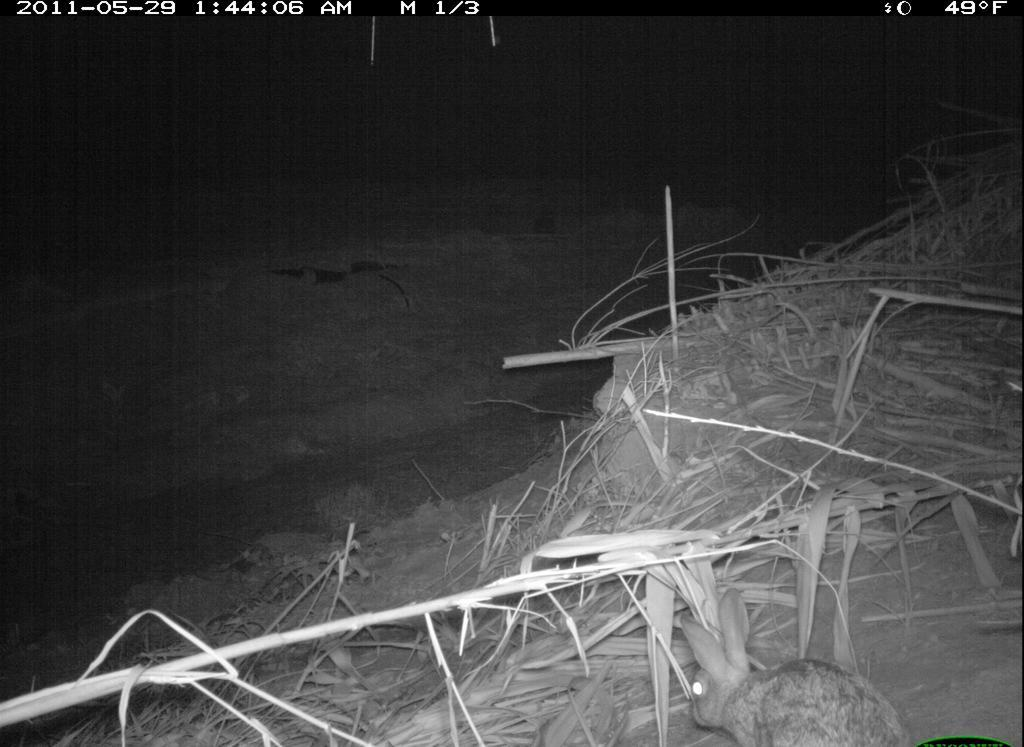rabbit: (669, 583, 918, 747)
